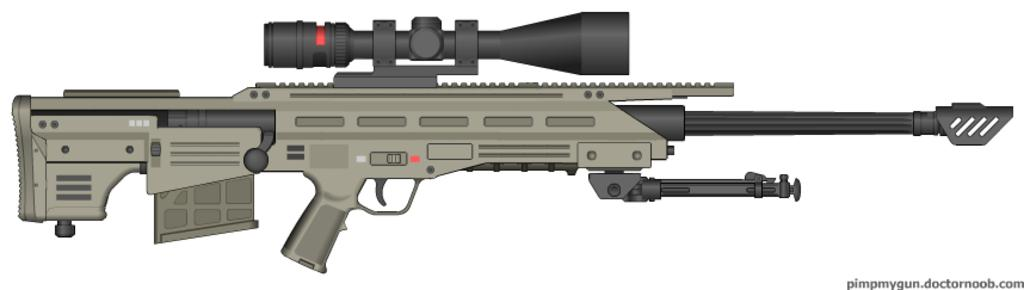Rifle: (13, 11, 1012, 273)
